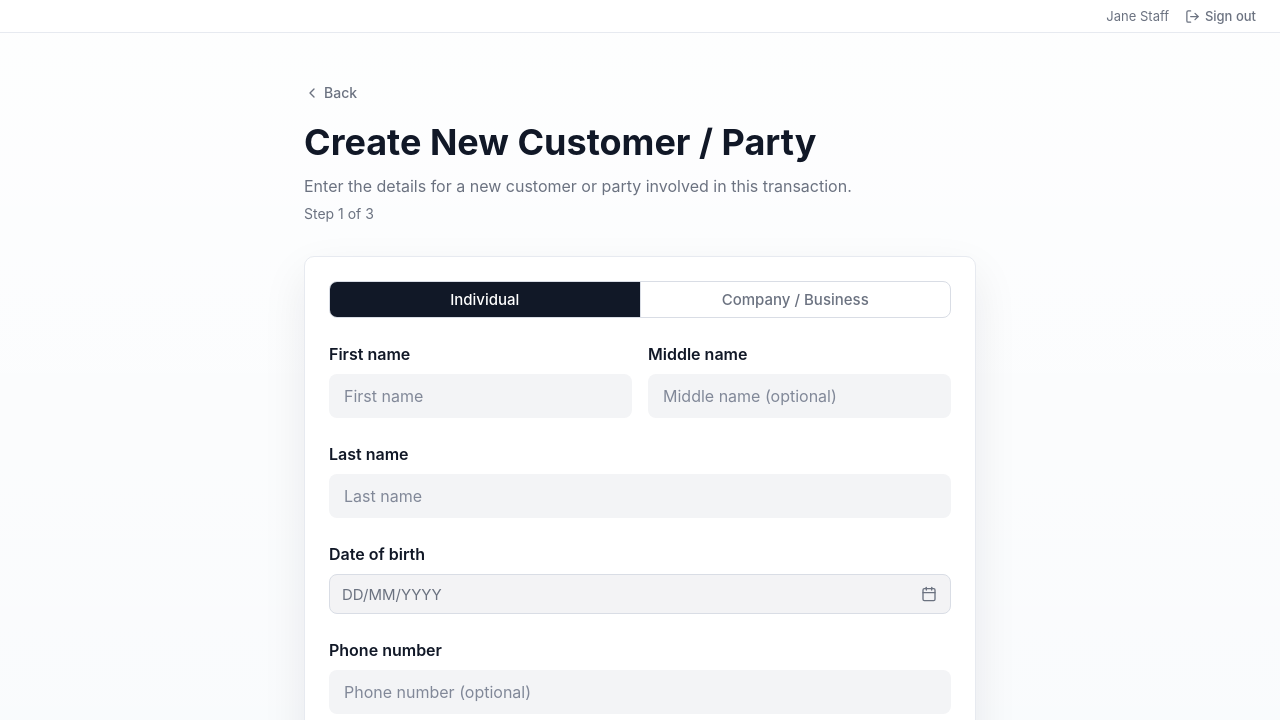
it: CreateCustomerPage › individual: shows a validation error when date of birth is not provided
The image size is (1280, 720).
In the field labelled "First name": [480, 396] box [329,374,632,418], type "Jane"
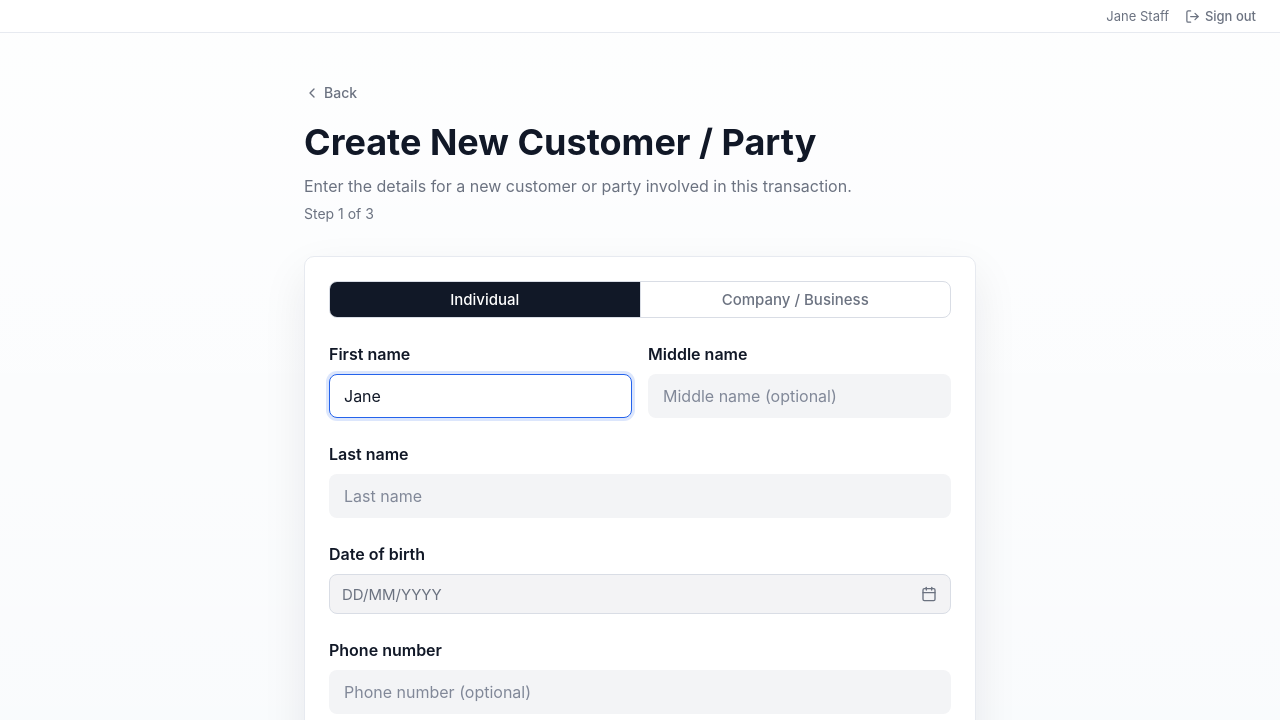
In the field labelled "Last name": [640, 496] box [329,474,951,518], type "Doe"
(page scrolled)
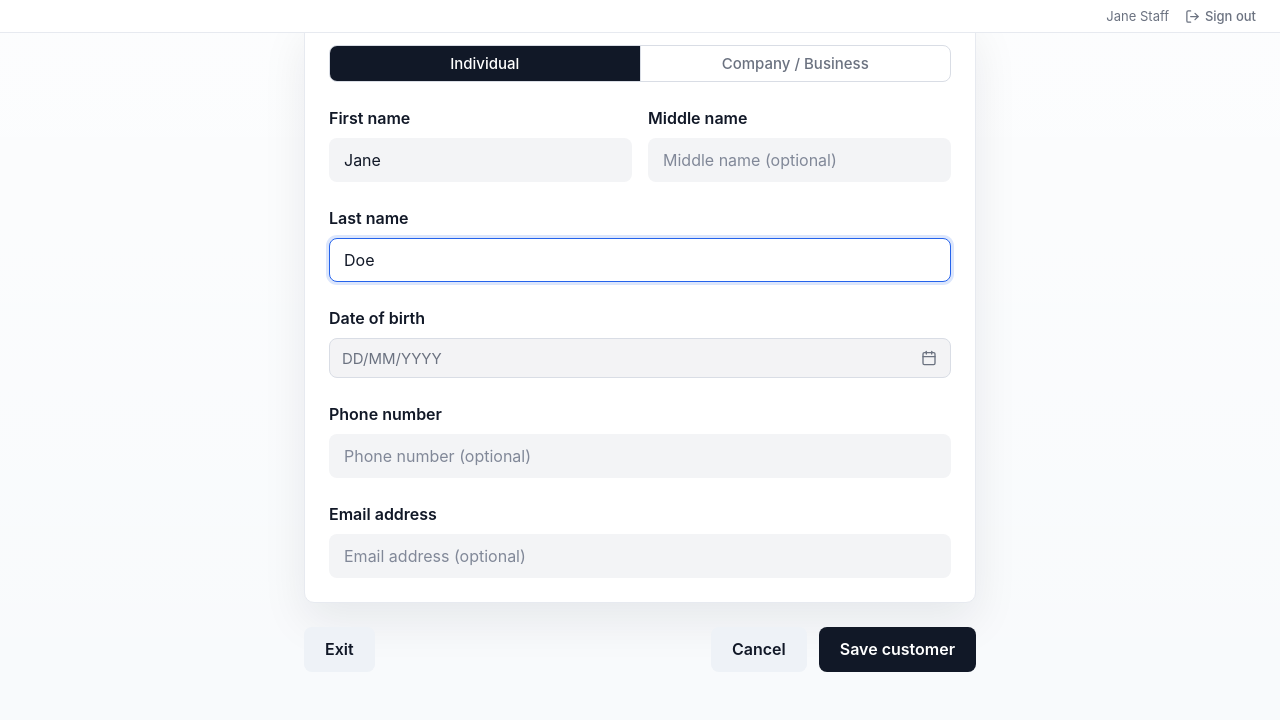
Click the button "Save customer": [897, 650] box [819,627,976,672]
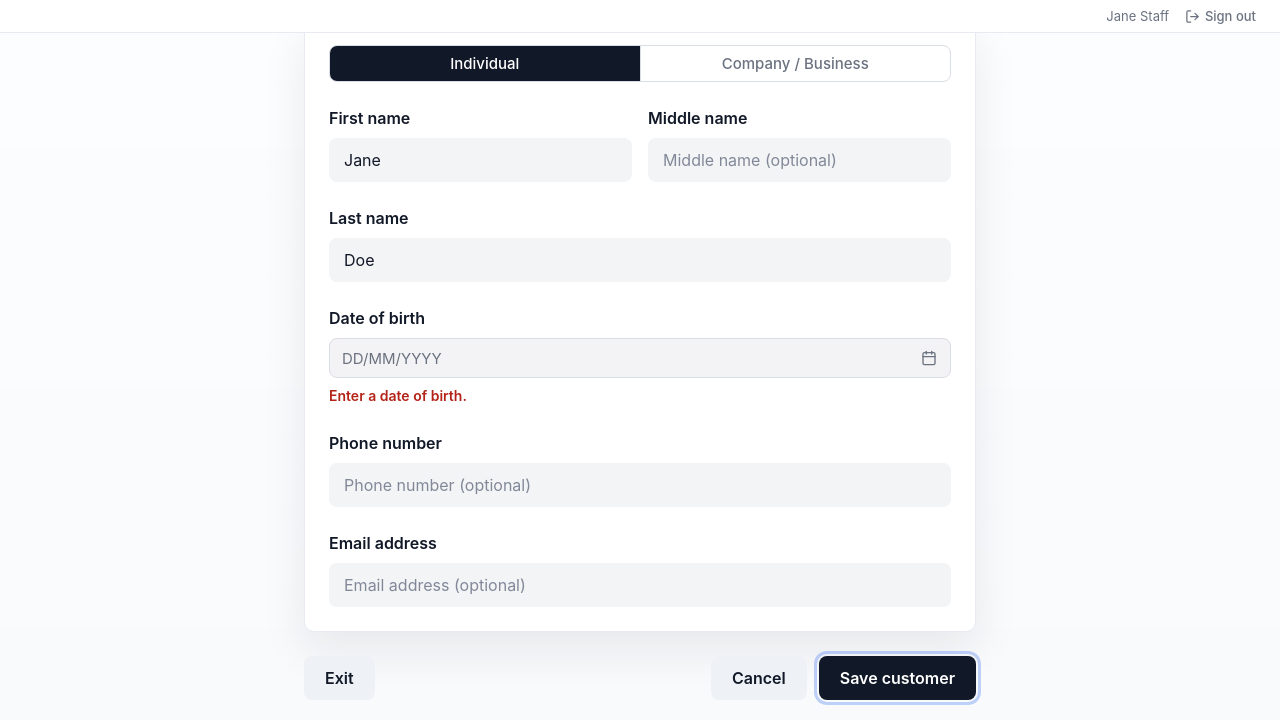
expect the text "Enter a date of birth." is shown: met, box [329,387,467,404]
